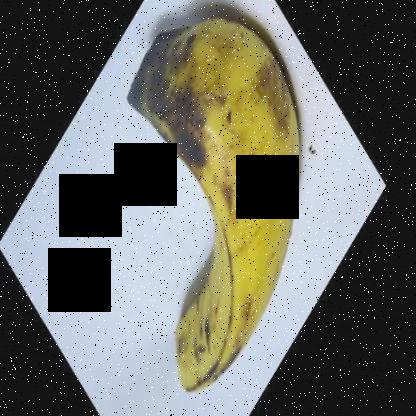ripe: (121, 6, 309, 405)
